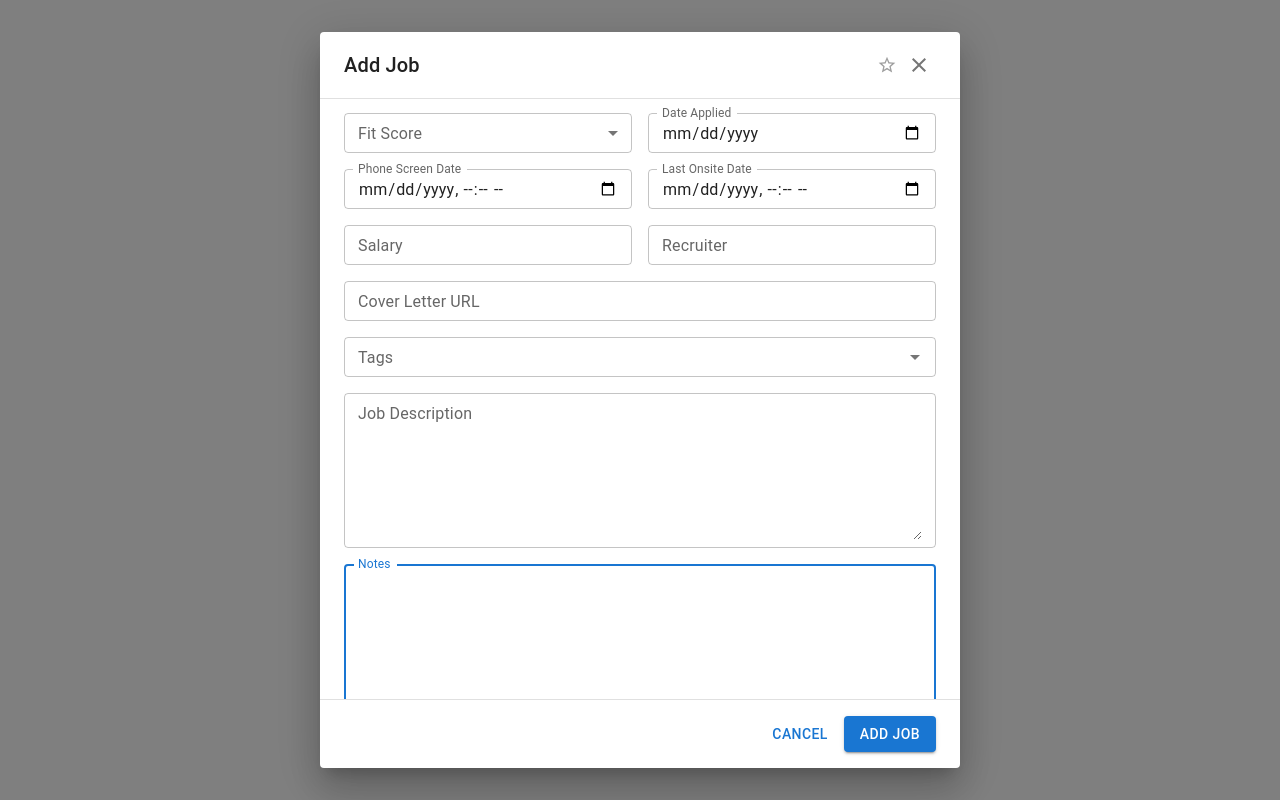
Test case: jobDialog › add mode (jobId=null) › clears validation errors when the user fixes a field
(page scrolled)
Click the button "Add Job" at (890, 734), box [844,716,936,752]
(page scrolled)
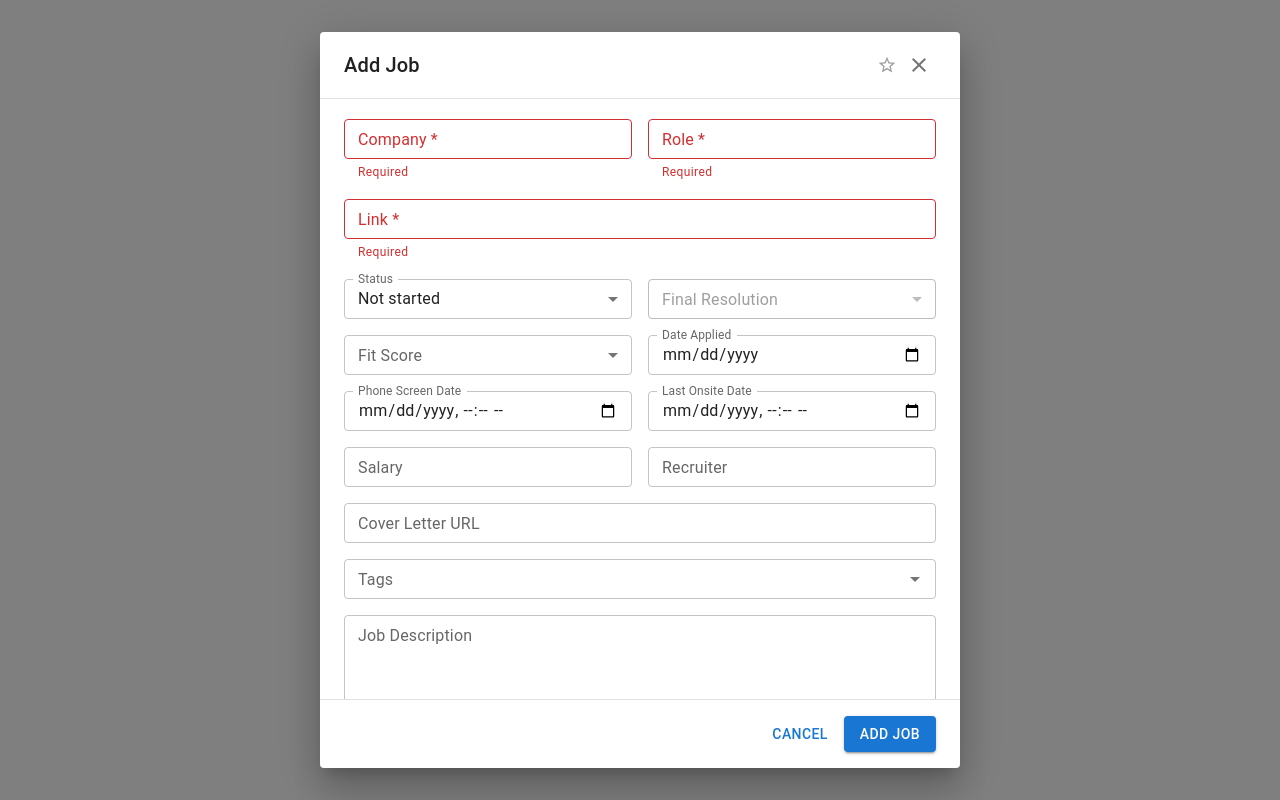
Now the text "Required" is shown 3 times, box [358,165,408,179]; [662,165,712,179]; [358,245,408,259]
Type "Acme" into the field labelled "Company *" at (488, 139), box [344,119,632,159]
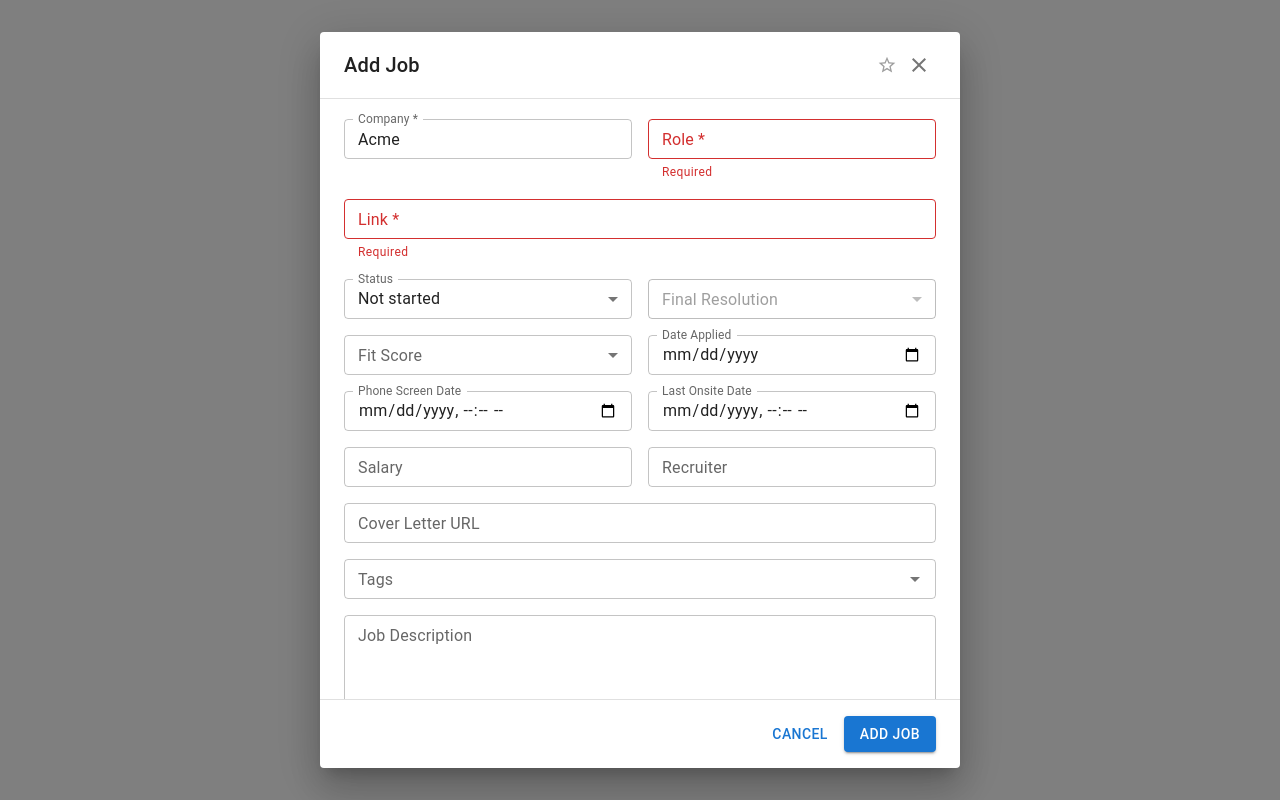
Now the text "Required" is shown 2 times, box [662,165,712,179]; [358,245,408,259]
